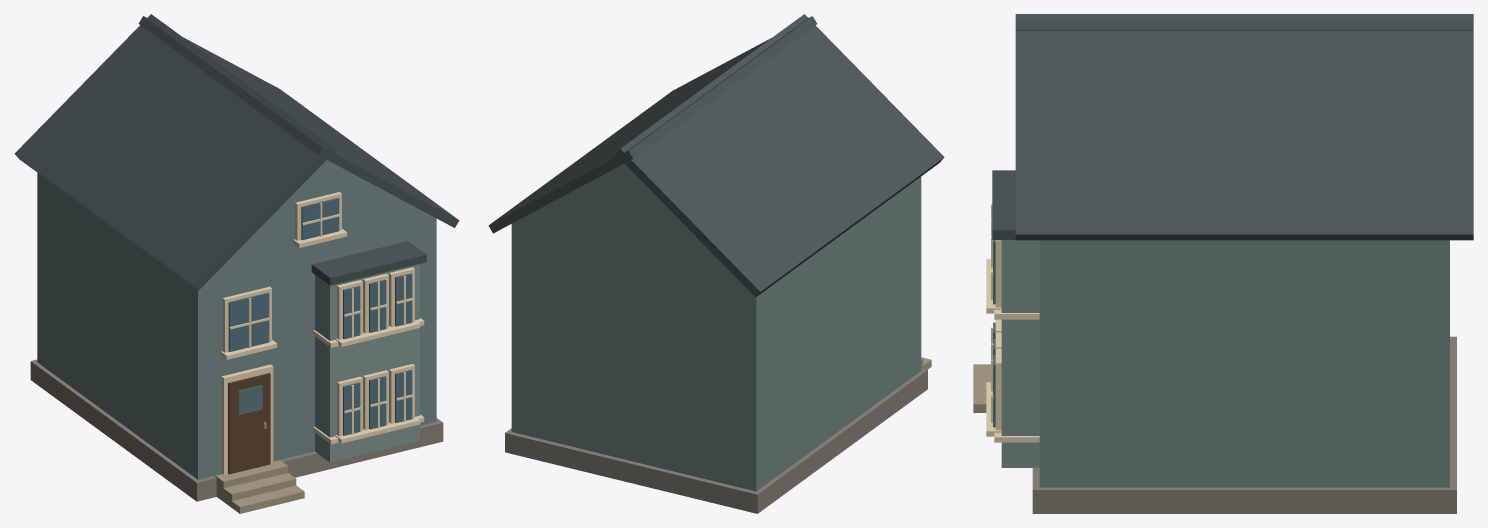
The model's file is bay_window_house.glb.
3 renders of one model, left to right at view 1: azimuth 30°, elevation 25°; view 2: azimuth 150°, elevation 25°; view 3: azimuth 270°, elevation 25°, orthographic. The views are drawn at different scales.
Parts seen in each view (by area): view 1: Clapboard house, Sloping roof, Bay projection, Sloping roof.001, Gable walls, Foundation, Door, Bay cap, Blue glazing.006, Door casing, Blue glazing.007, Front step.001 (+17 smaller); view 2: Clapboard house, Sloping roof, Foundation, Gable walls, Sloping roof.001; view 3: Clapboard house, Sloping roof.001, Foundation, Bay projection, Sloping roof, Bay cap, Front step.002, Window surround.002.
Part boxes in pixels (x1,y1,x2,y2): Clapboard house: (37, 173, 436, 479); Sloping roof: (14, 14, 334, 290); Bay projection: (315, 264, 419, 462); Sloping roof.001: (138, 16, 459, 227); Gable walls: (220, 160, 433, 269); Foundation: (30, 359, 443, 501); Door: (228, 373, 270, 474); Bay cap: (311, 241, 426, 285); Blue glazing.006: (228, 292, 269, 351); Door casing: (221, 364, 273, 474); Blue glazing.007: (301, 198, 339, 240); Front step.001: (223, 473, 296, 507); Clapboard house: (511, 176, 921, 491); Sloping roof: (615, 14, 944, 297); Foundation: (505, 368, 927, 513); Gable walls: (514, 163, 733, 275); Sloping roof.001: (488, 16, 817, 233); Clapboard house: (1039, 240, 1449, 487); Sloping roof.001: (1015, 14, 1473, 240); Foundation: (1032, 336, 1456, 513); Bay projection: (1001, 240, 1039, 467); Sloping roof: (1015, 19, 1473, 30); Bay cap: (992, 170, 1015, 239); Front step.002: (973, 364, 990, 412); Window surround.002: (995, 348, 1001, 430).
Size of the model in its own units: 6.37 by 7.57 by 8.17.
